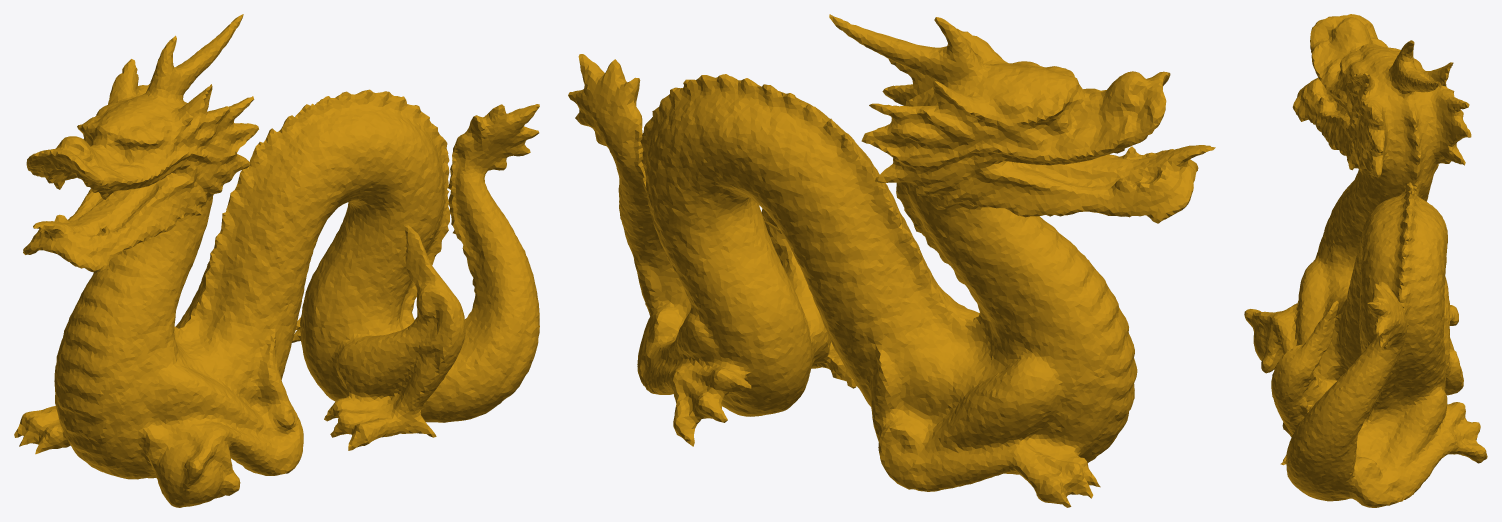
File: dragon.obj
3 renders of one model, left to right at view 1: azimuth 30°, elevation 25°; view 2: azimuth 150°, elevation 25°; view 3: azimuth 270°, elevation 25°, orthographic. The views are drawn at different scales.
Size of the model in its own units: 9.12 by 6.44 by 4.06.
